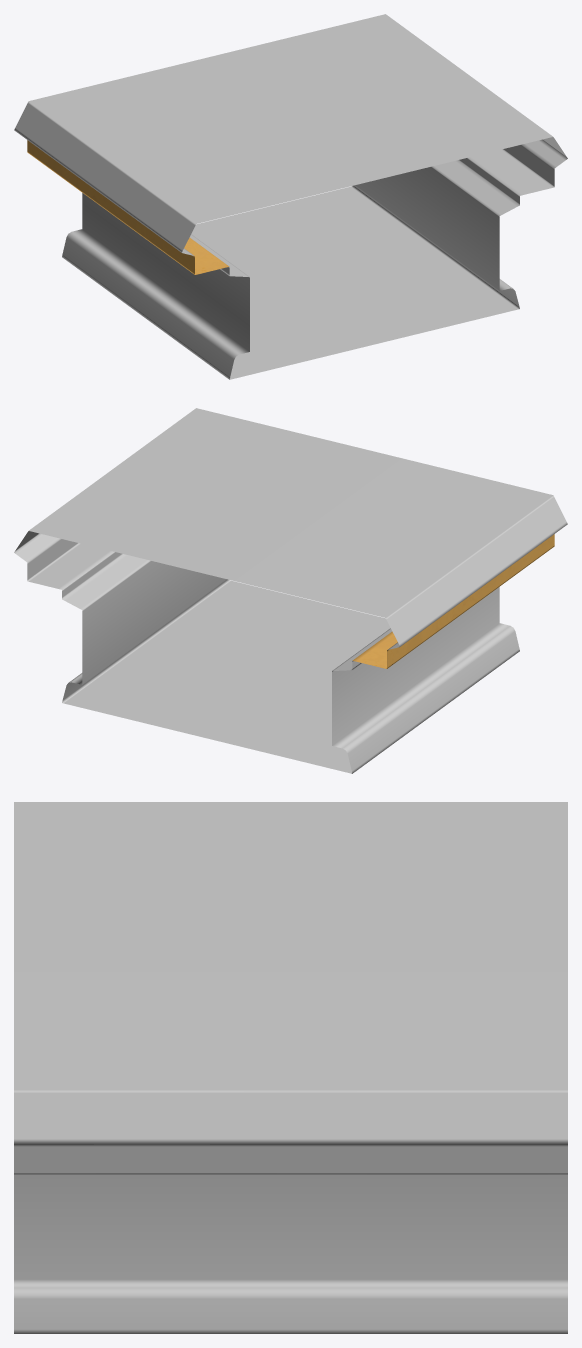
The model's file is SM_Beam_02_Middle.fbx.
The picture shows the model from 3 angles, top to bottom: view 1: azimuth 30°, elevation 25°; view 2: azimuth 150°, elevation 25°; view 3: azimuth 270°, elevation 25°; orthographic projection. The views are drawn at different scales.
Visible parts, largest first — view 1: SM_Beam_02_Middle_LOD0; view 2: SM_Beam_02_Middle_LOD0; view 3: SM_Beam_02_Middle_LOD0.
Boxes of the visible parts, x1=… form: SM_Beam_02_Middle_LOD0: x1=14, y1=14, x2=567, y2=379; SM_Beam_02_Middle_LOD0: x1=14, y1=408, x2=567, y2=773; SM_Beam_02_Middle_LOD0: x1=14, y1=802, x2=567, y2=1333.
Size of the model in its own units: 266 by 200 by 108.
